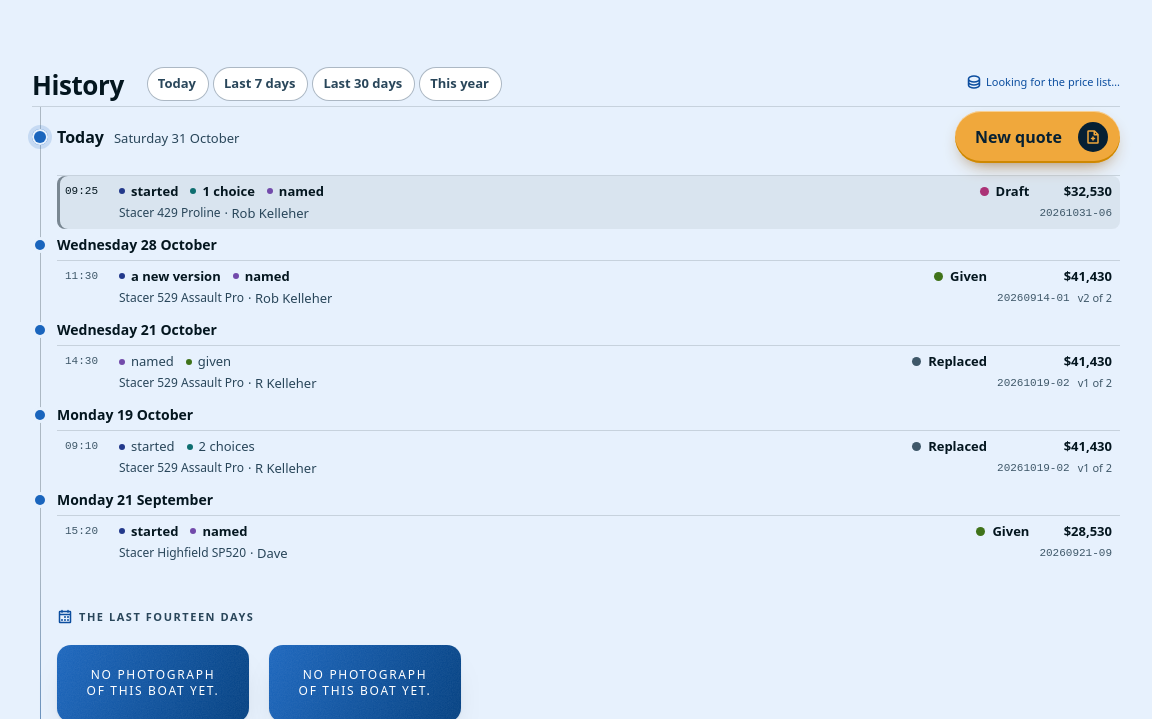
the spine, as the critique asked for it › says every place a press lands in words, never as an address
Step 1. Click the row that starts with "a new version" → click(82, 276), box [57,261,1120,314]
(page scrolled)
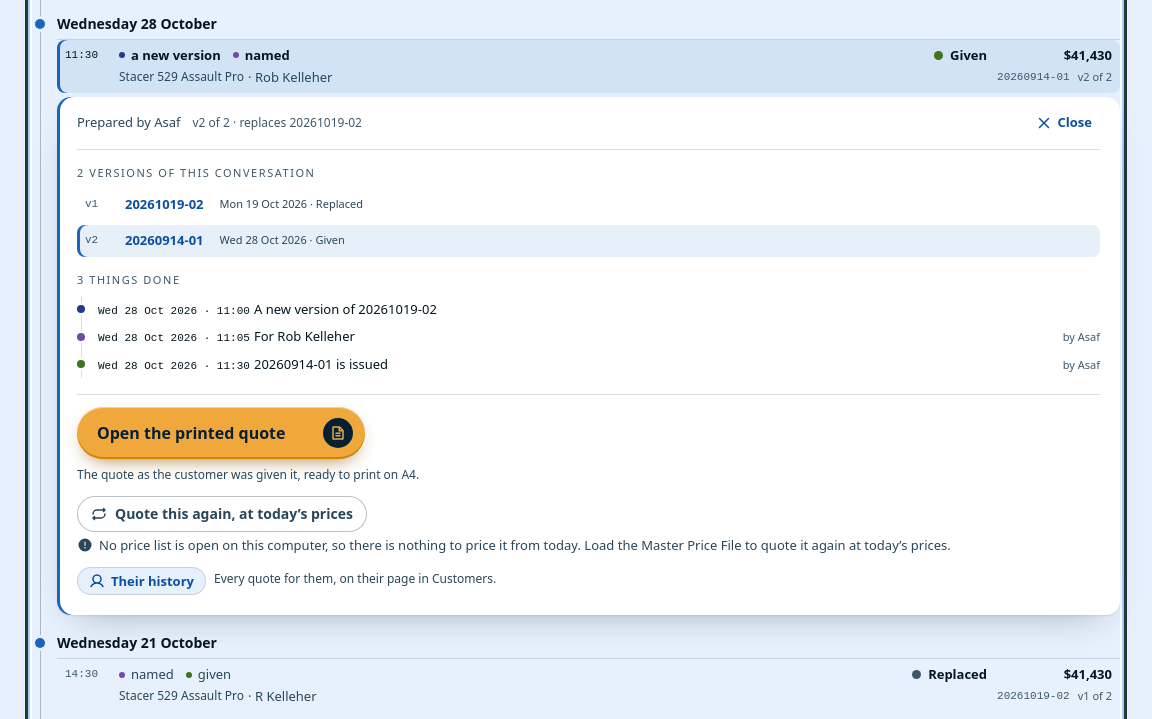
Now the row with test id "fold" shows "ready to print on A4", box [77,466,419,483]
